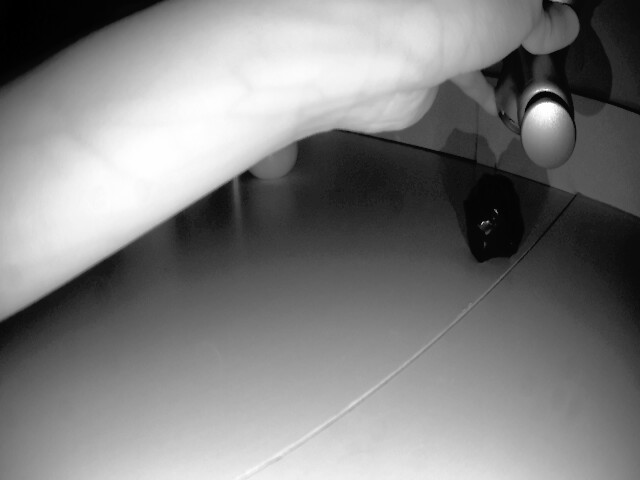silver: (464, 181, 541, 265)
